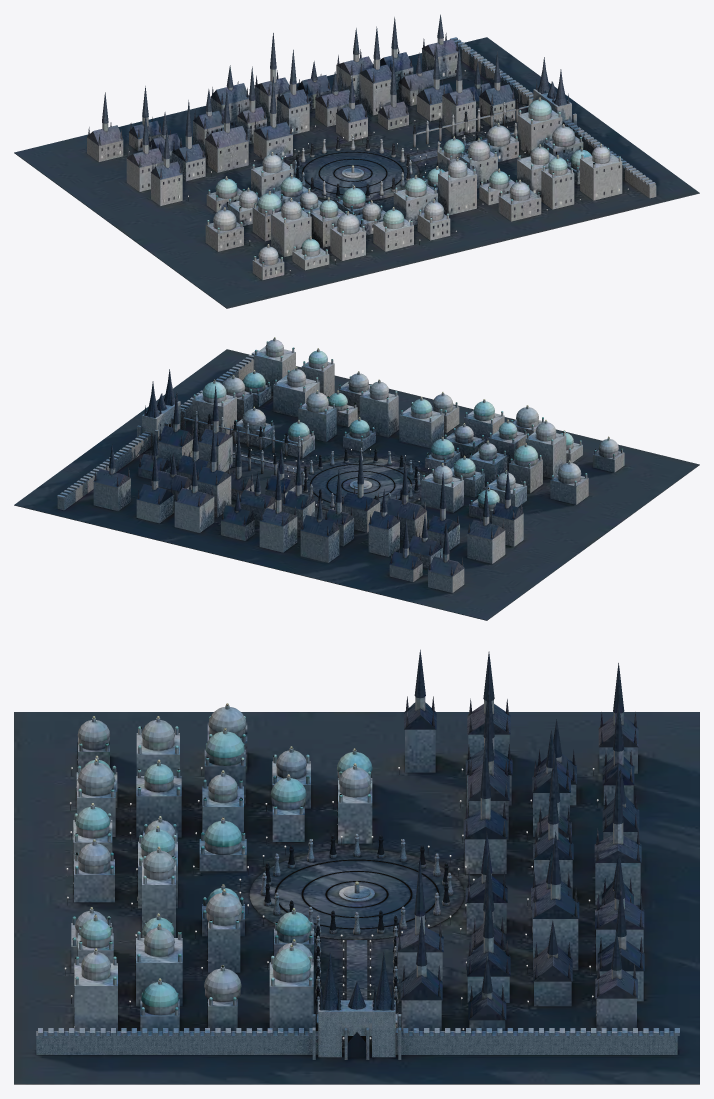
File: yuanyu_city_low.glb
3 views of the same model, one above another, from view 1: azimuth 30°, elevation 25°; view 2: azimuth 150°, elevation 25°; view 3: azimuth 270°, elevation 25° (orthographic). The views are drawn at different scales.
Parts seen in each view (by area): view 1: site_ground, props_domes, props_spires, props_gate, props_plaza; view 2: site_ground, props_domes, props_spires, props_gate, props_plaza; view 3: site_ground, props_domes, props_spires, props_gate, props_plaza, props_lamps.
Part boxes in pixels (<box>): site_ground: <box>14,37,699,308</box>; props_domes: <box>205,97,622,280</box>; props_spires: <box>87,14,515,205</box>; props_gate: <box>450,37,656,198</box>; props_plaza: <box>293,98,529,197</box>; site_ground: <box>14,349,699,620</box>; props_domes: <box>192,337,624,521</box>; props_spires: <box>93,386,523,592</box>; props_gate: <box>57,350,258,510</box>; props_plaza: <box>159,410,420,507</box>; site_ground: <box>14,712,699,1084</box>; props_domes: <box>71,703,372,1030</box>; props_spires: <box>396,649,644,1030</box>; props_gate: <box>36,952,679,1059</box>; props_plaza: <box>260,834,453,1030</box>; props_lamps: <box>64,767,598,1045</box>.
Size of the model in its own units: 590 by 101 by 460.
Materials: 6 (6 with a texture image).
